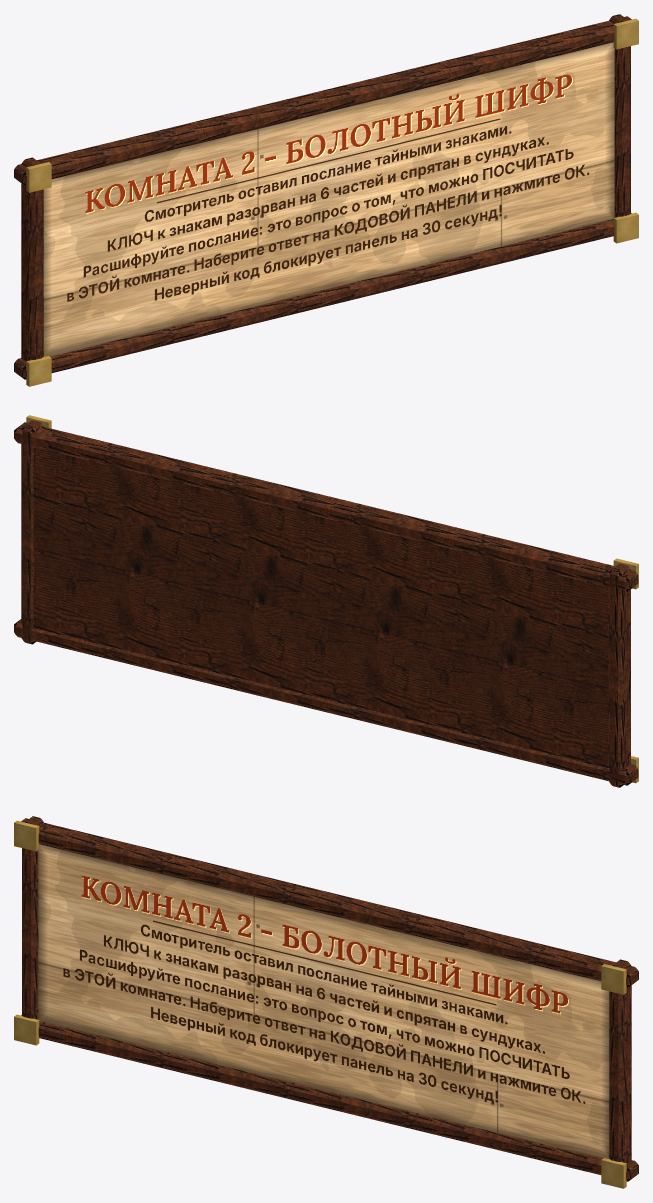
The model's file is sg_ru_esc_r2.glb.
3 renders of one model, top to bottom at view 1: azimuth 30°, elevation 25°; view 2: azimuth 150°, elevation 25°; view 3: azimuth 330°, elevation 25°, orthographic.
Visible parts, largest first — view 1: spire; view 2: spire; view 3: spire.
Boxes of the visible parts, <box> form: spire: <box>14,14,638,386</box>; spire: <box>14,415,638,787</box>; spire: <box>14,816,638,1188</box>.
Size of the model in its own units: 4.96 by 1.67 by 0.19.
3 materials, 3 textured.
